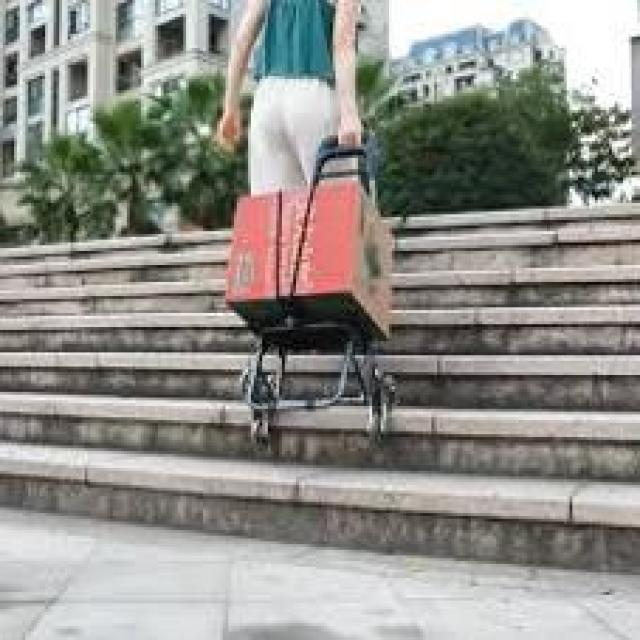stair: (40, 291, 477, 542)
